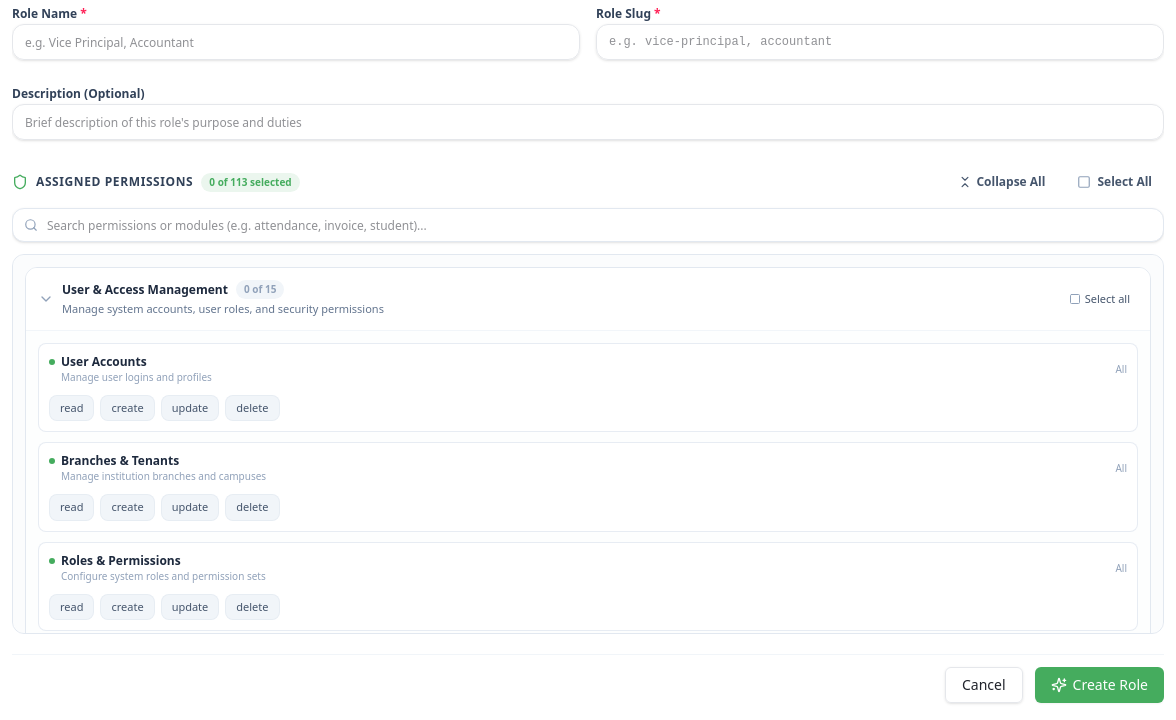
Test case: RoleForm › auto-generates slug when typing role name
Type "Vice Principal" into the field labelled "Role Name *" at (296, 42), box [12,24,580,60]
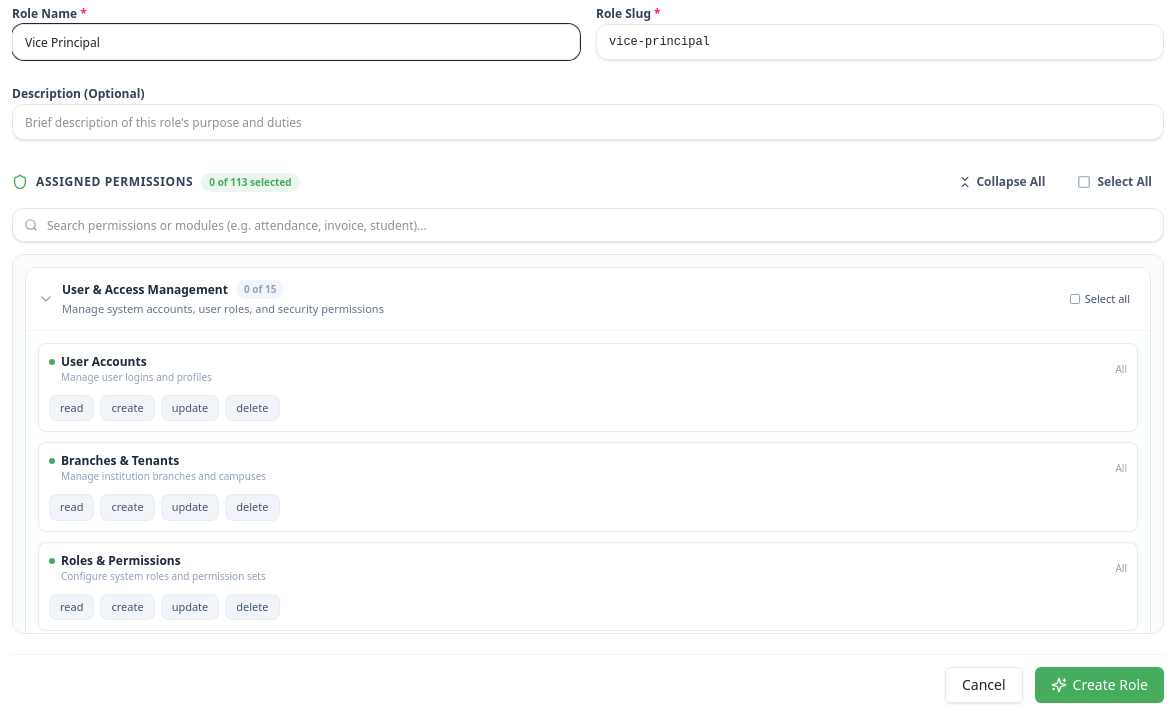
Result: the field labelled "Role Slug *" holds "vice-principal" at [596,24,1164,60]
